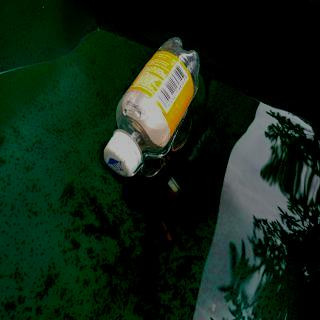bottle: (101, 30, 202, 180)
